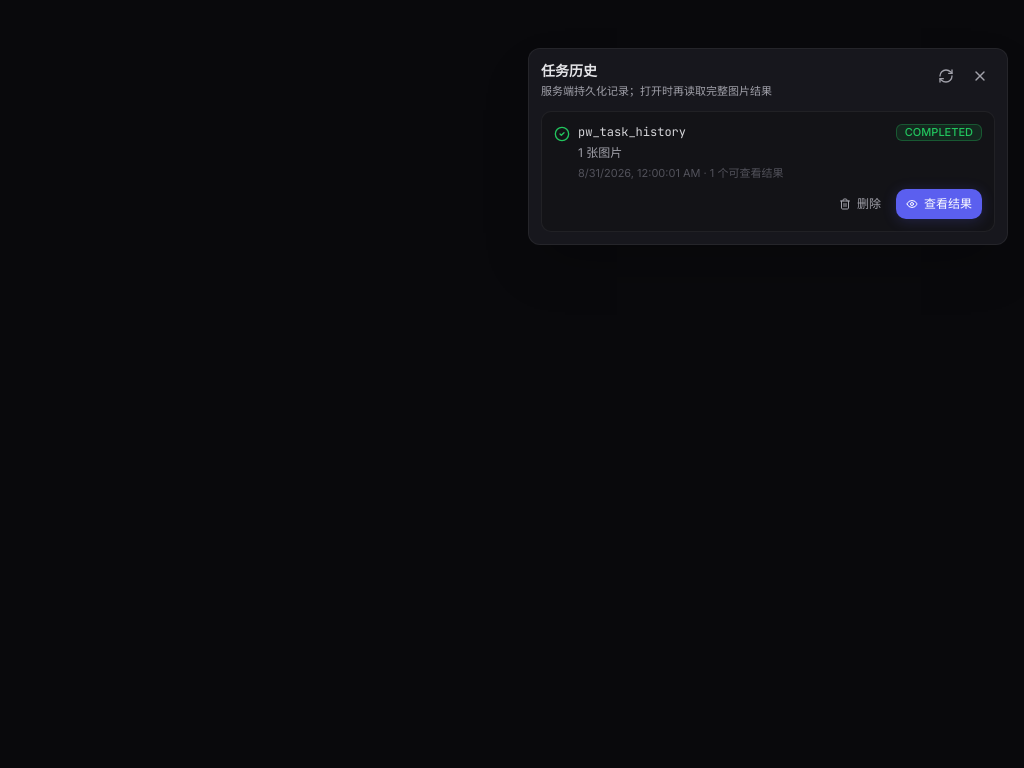
it: RecentJobsPopover › keeps the task visible when deletion fails
Click the button with aria-label "删除任务 pw_task_history": (860,204) [828,189,892,219]
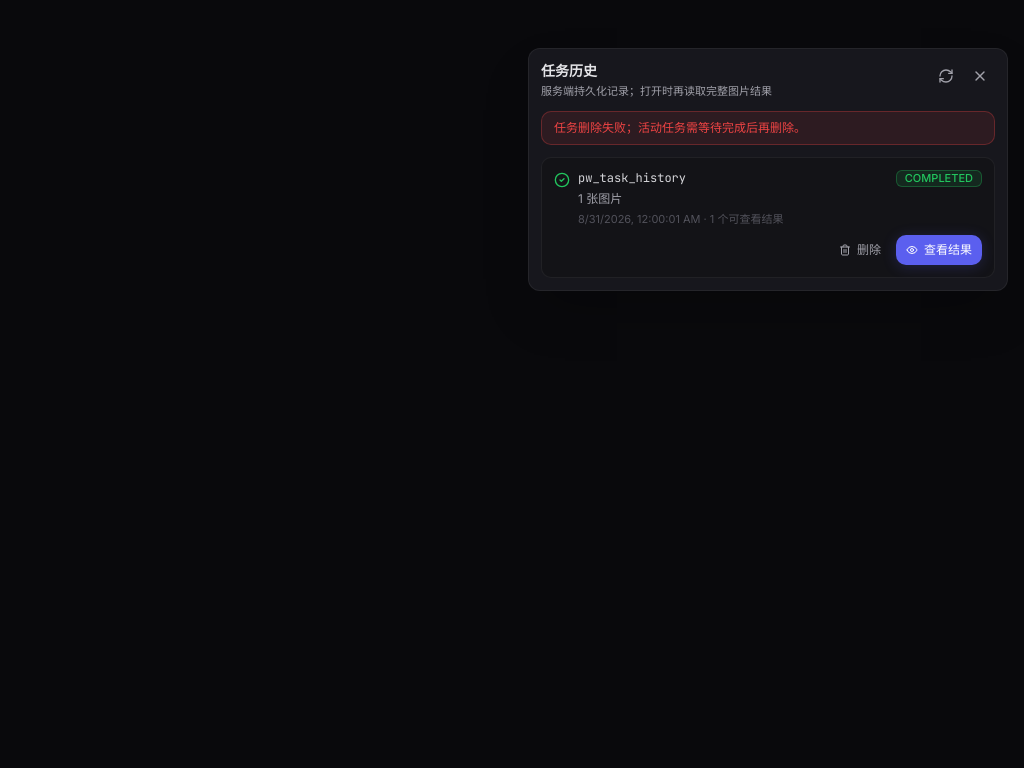
Check: the text "pw_task_history" is shown, box [578,170,686,187]
Check: the message shows "任务删除失败", box [554,120,806,135]
